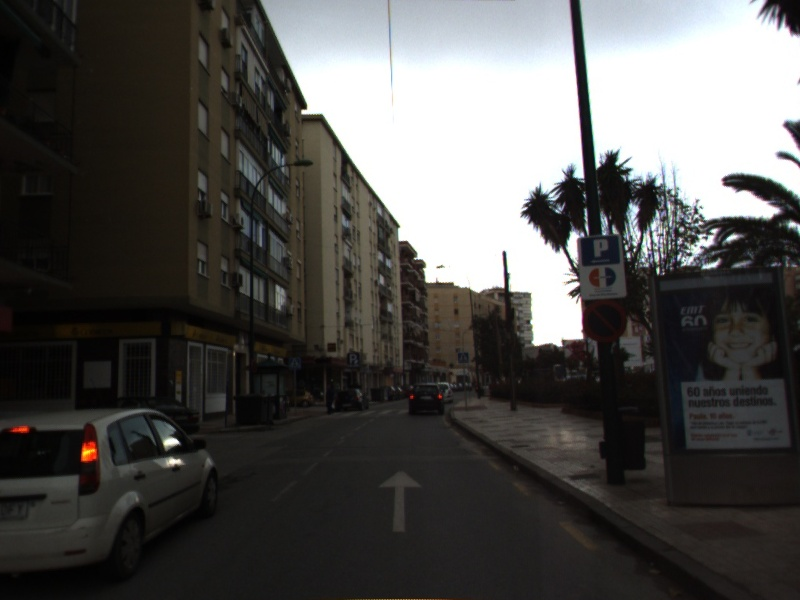STRAIGHT: (377, 468, 425, 533)
